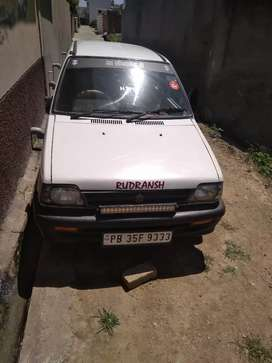PB35F9333: (103, 231, 172, 244)
